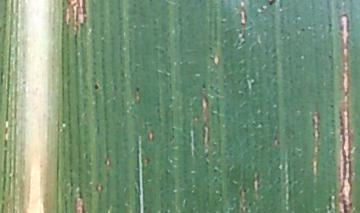tarspot: (265, 1, 281, 9), (91, 81, 100, 93), (133, 86, 142, 95)
